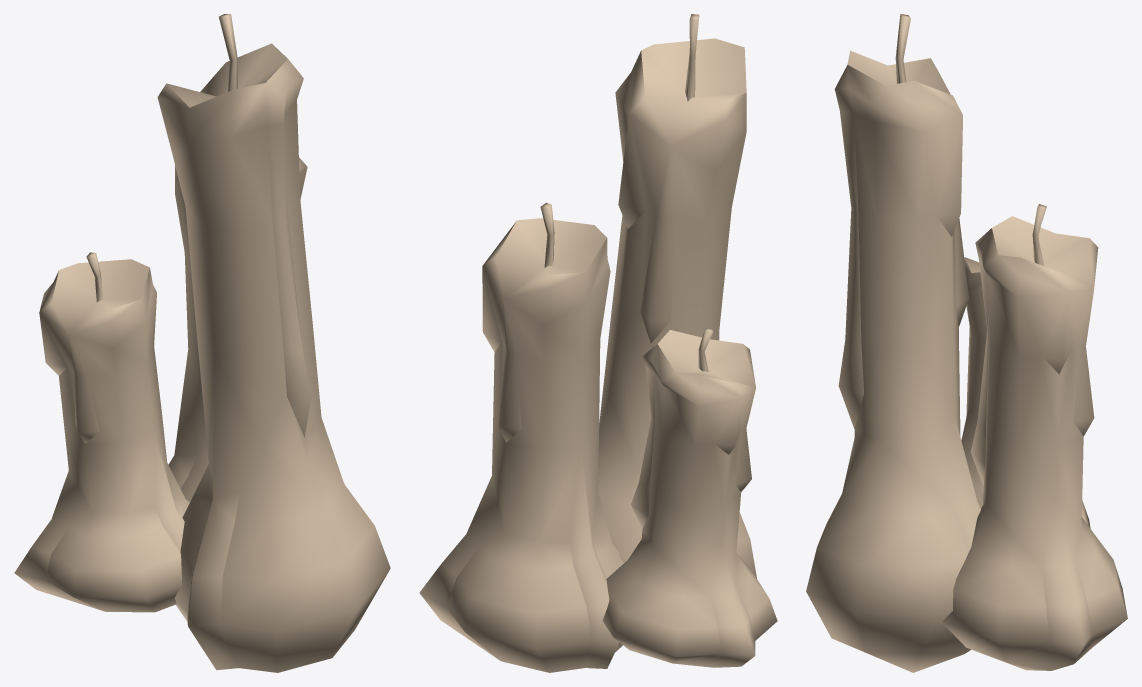
Rendered from candles.glb.
3 views of the same model, side by side, from view 1: azimuth 30°, elevation 25°; view 2: azimuth 150°, elevation 25°; view 3: azimuth 270°, elevation 25° (orthographic). The views are drawn at different scales.
Visible parts, largest first — view 1: candles; view 2: candles; view 3: candles.
Part boxes in pixels (x1=…): candles: x1=14, y1=14, x2=390, y2=672; candles: x1=419, y1=14, x2=777, y2=672; candles: x1=806, y1=14, x2=1127, y2=672.
Size of the model in its own units: 2.95 by 5.71 by 2.66.
